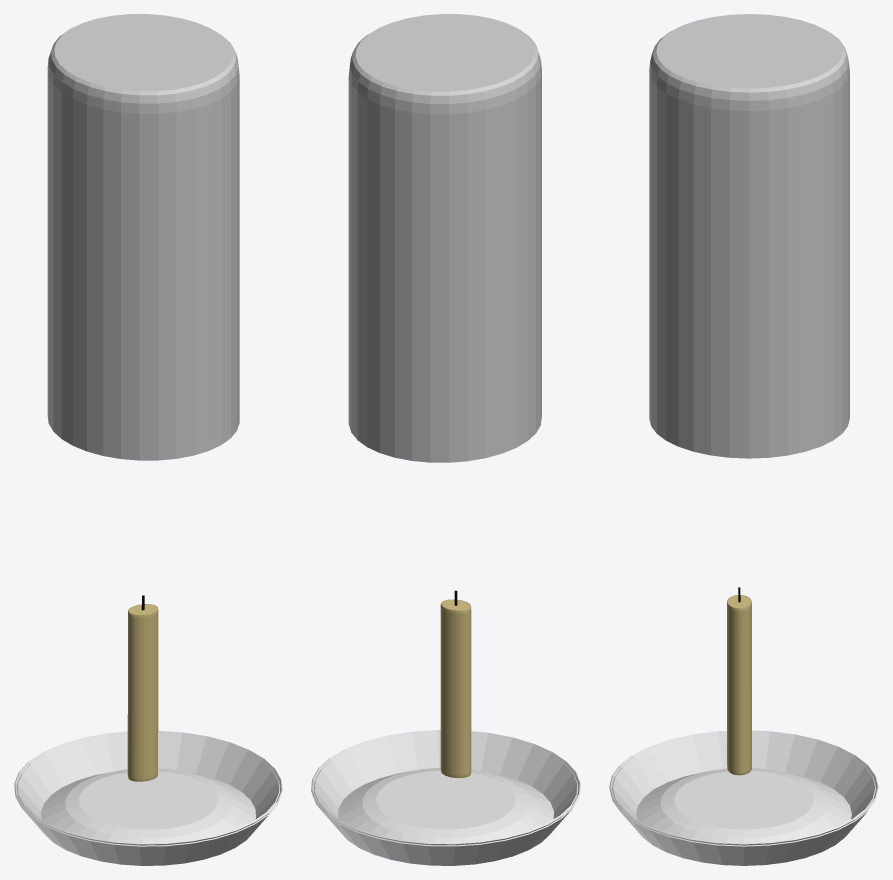
Rendered from aula2.fbx.
3 views of the same model, side by side, from view 1: azimuth 30°, elevation 25°; view 2: azimuth 150°, elevation 25°; view 3: azimuth 270°, elevation 25° (orthographic).
Visible parts, largest first — view 1: copo, Circle, Cylinder; view 2: copo, Circle, Cylinder; view 3: copo, Circle, Cylinder.
Part boxes in pixels (x1,y1,x2,y2): copo: [47, 14, 239, 460]; Circle: [14, 730, 282, 865]; Cylinder: [127, 595, 158, 781]; copo: [348, 14, 541, 462]; Circle: [311, 730, 580, 865]; Cylinder: [440, 590, 471, 778]; copo: [649, 14, 849, 458]; Circle: [609, 730, 878, 865]; Cylinder: [727, 587, 751, 775].
Bounding box in the file's own units: 202 × 633 × 202.
